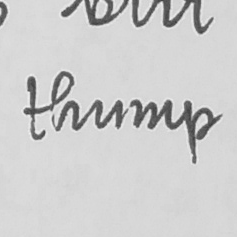h: (48, 69, 83, 135)
m: (129, 94, 176, 131)
p: (180, 99, 215, 167)
t: (22, 73, 47, 142)
u: (90, 95, 125, 131)
